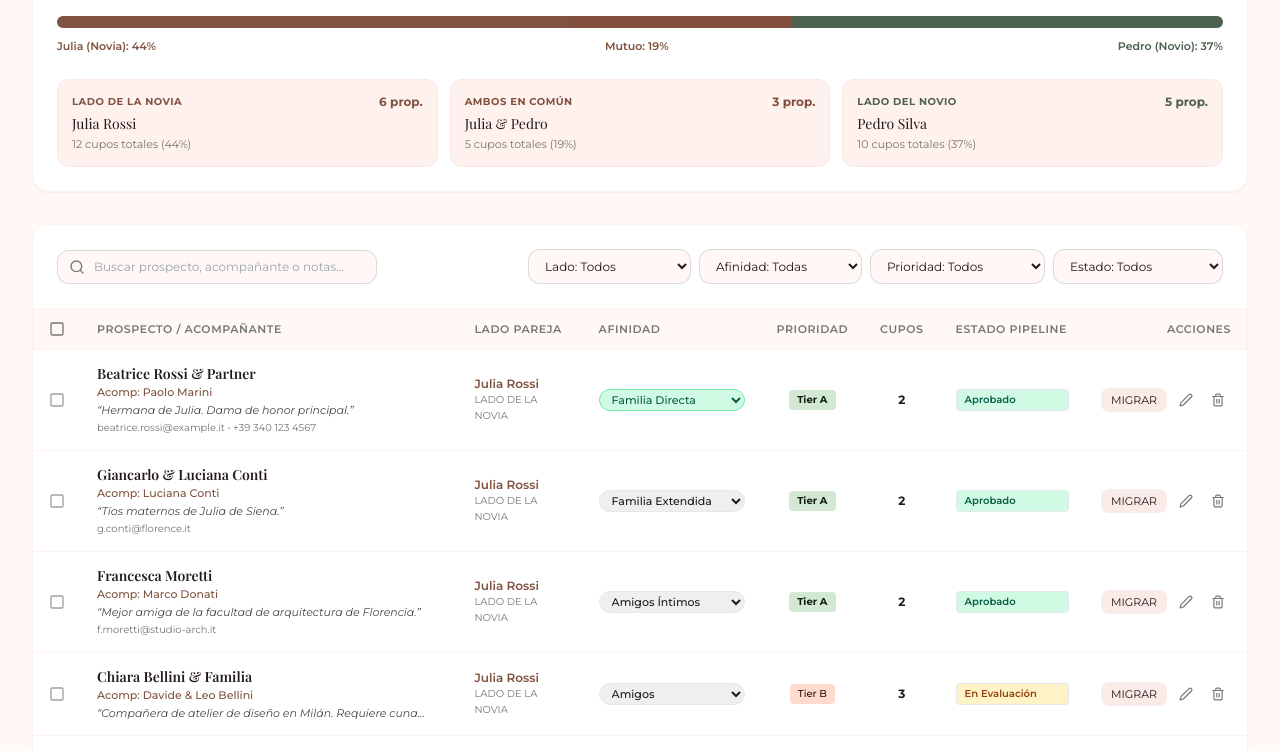
Test: Prospects to Guests Module & Migration Pipeline Test Suite › Admin Prospects Subpage UI Integration › selects multiple prospects with checkboxes and shows batch actions bar with total seats
(page scrolled)
# Row 0 is header, Row 1 is first prospect
Click the button without text below "Beatrice Rossi & Partner": (57, 400) [49,392,65,408]
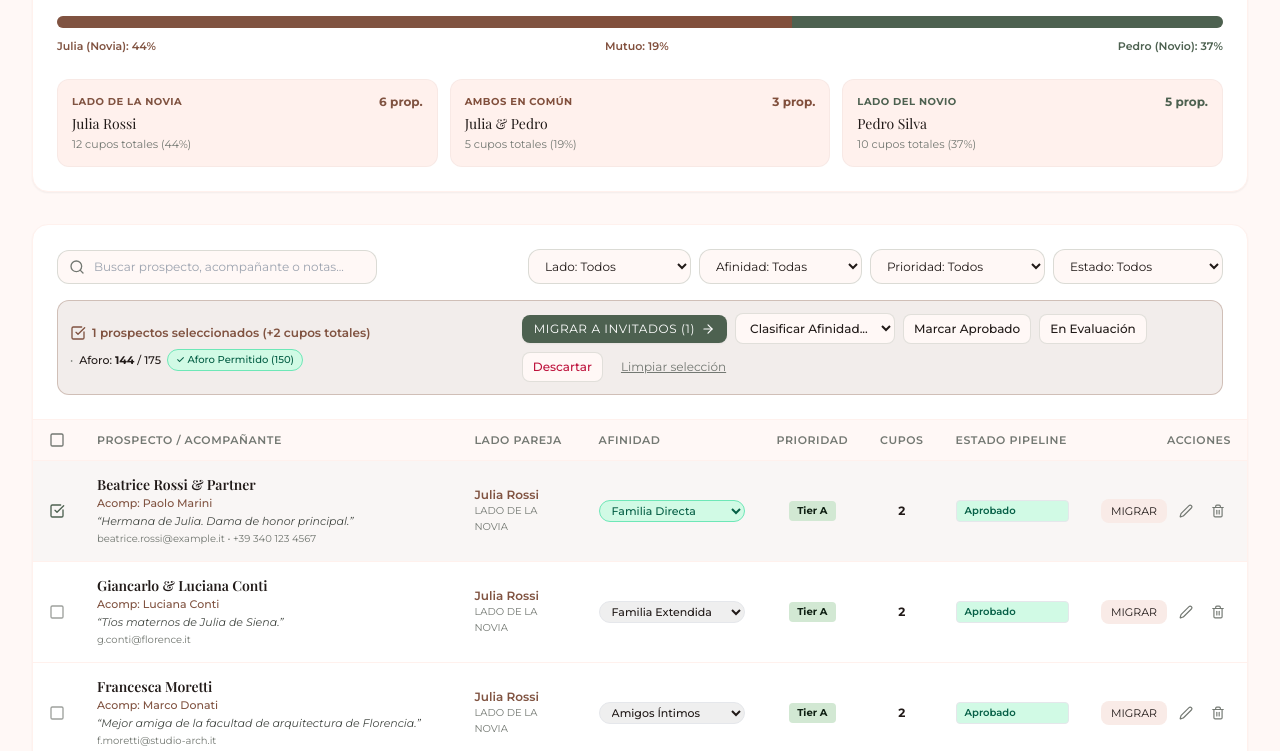
Expected: the text "1 prospectos seleccionados (+2 cupos totales)" is shown, [92,324,370,340]
Expected: the button "Migrar a Invitados (1)" is shown, [522,314,727,342]
